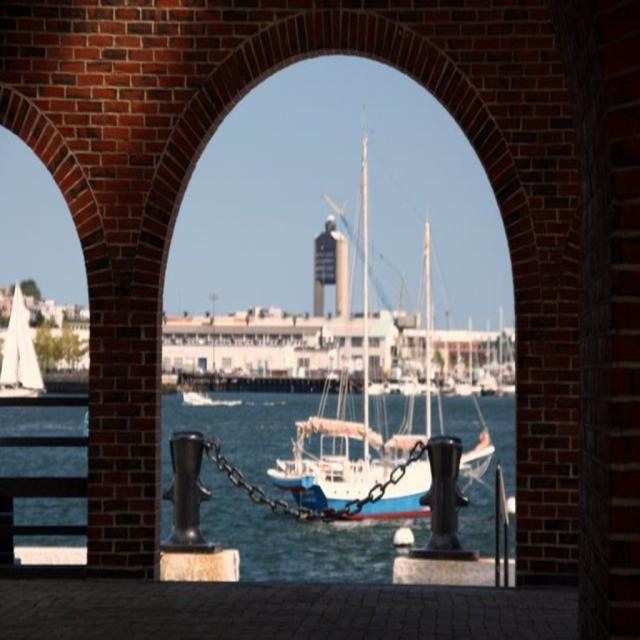Boat: (266, 100, 496, 524), (2, 283, 42, 406)
